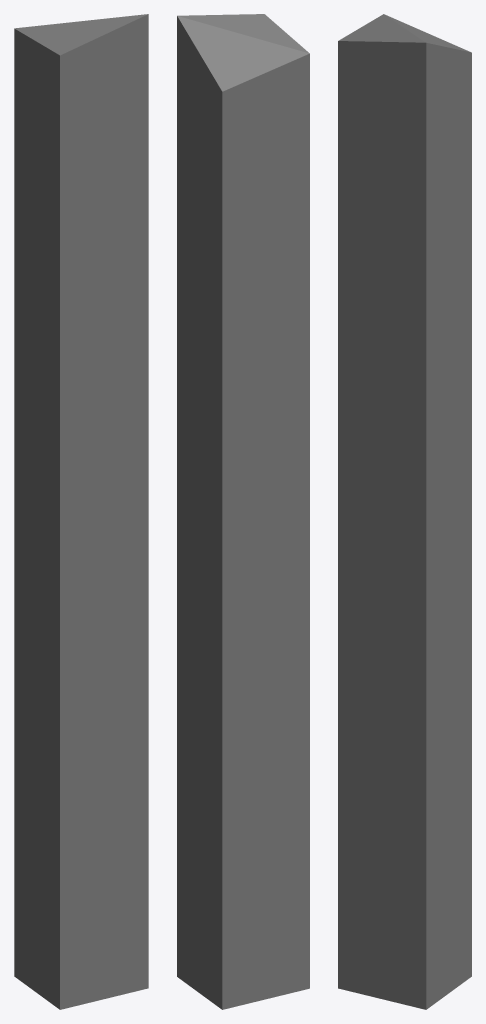
File: pillar_2.fbx
3 views of the same model, side by side, from view 1: azimuth 30°, elevation 25°; view 2: azimuth 210°, elevation 25°; view 3: azimuth 330°, elevation 25° (orthographic).
Parts seen in each view (by area): view 1: Object.027; view 2: Object.027; view 3: Object.027.
Boxes of the visible parts, left/top/right/bottom form: Object.027: left=14, top=14, right=148, bottom=1009; Object.027: left=177, top=14, right=309, bottom=1009; Object.027: left=338, top=14, right=471, bottom=1009.
Size of the model in its own units: 158 by 1656 by 141.
